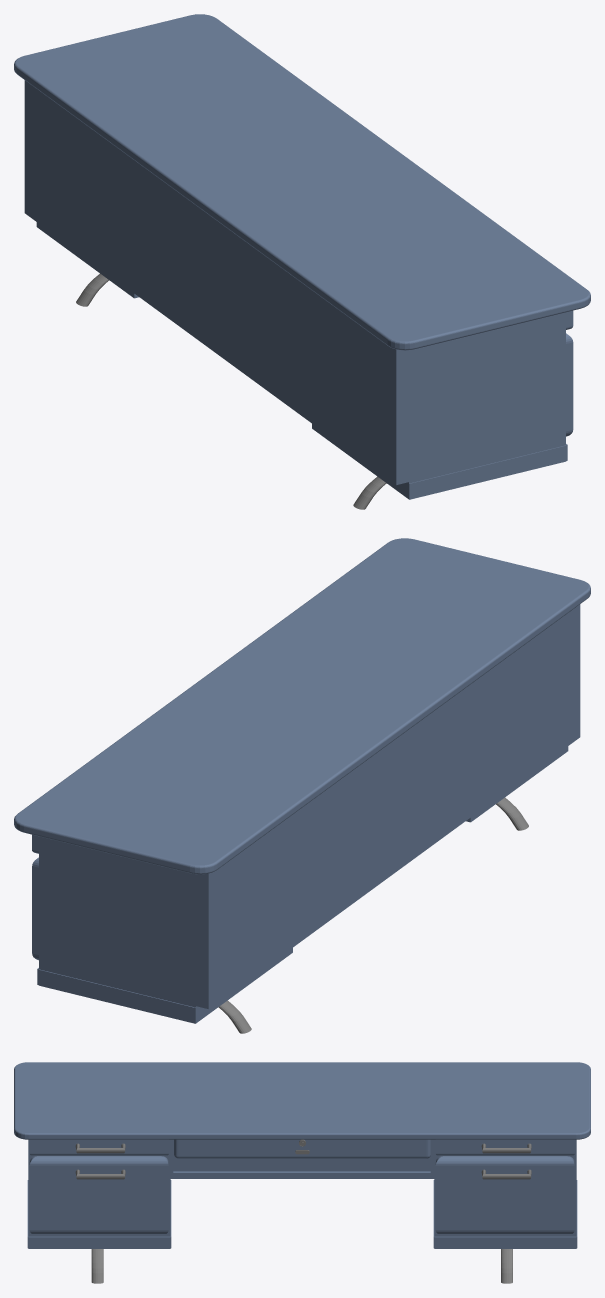
The model's file is MetalDesk.fbx.
3 renders of one model, top to bottom at view 1: azimuth 30°, elevation 25°; view 2: azimuth 150°, elevation 25°; view 3: azimuth 270°, elevation 25°, orthographic. The views are drawn at different scales.
Visible parts, largest first — view 1: Top, Backing, SideRef, BottomDrawer; view 2: Top, Backing, SideRef.002, BottomDrawer.001; view 3: Top, BottomDrawer, BottomDrawer.001, Backing, MiddleDrawer, SideRef, SideRef.002, TopDrawer, TopDrawer.001, Leg.002, Leg.004, Handle.001 (+3 smaller).
Boxes of the visible parts, x1,y1,x2,y2 form: Top: (14,14,590,350); Backing: (24,80,408,484); SideRef: (312,312,567,499); BottomDrawer: (566,333,573,436); Top: (14,538,590,874); Backing: (196,604,580,1009); SideRef.002: (37,836,292,1023); BottomDrawer.001: (32,857,38,960); Top: (14,1062,590,1139); BottomDrawer: (29,1156,168,1234); BottomDrawer.001: (435,1156,574,1234); Backing: (170,1139,434,1178); MiddleDrawer: (174,1139,430,1158); SideRef: (27,1139,171,1248); SideRef.002: (433,1139,577,1248); TopDrawer: (29,1139,168,1155); TopDrawer.001: (435,1139,574,1155); Leg.002: (91,1249,103,1283); Leg.004: (501,1249,512,1283); Handle.001: (75,1143,125,1153).
Size of the model in its own units: 4.05 by 1.2 by 1.19.
